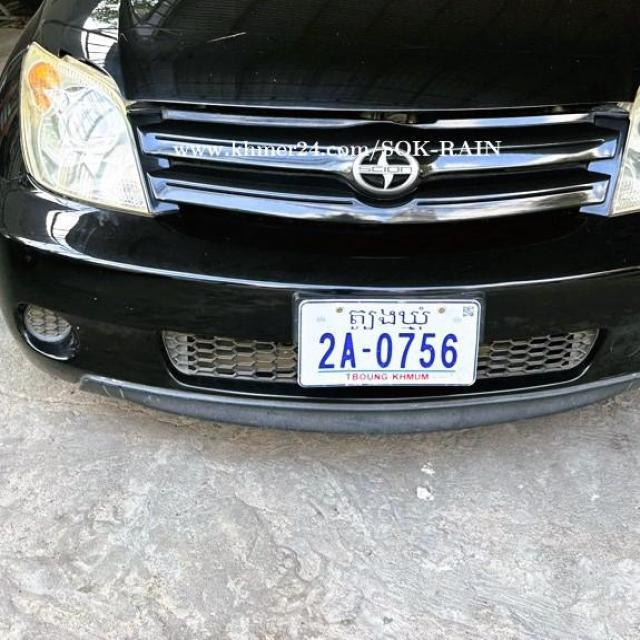Tboung_Khmum: (350, 306, 431, 330)
